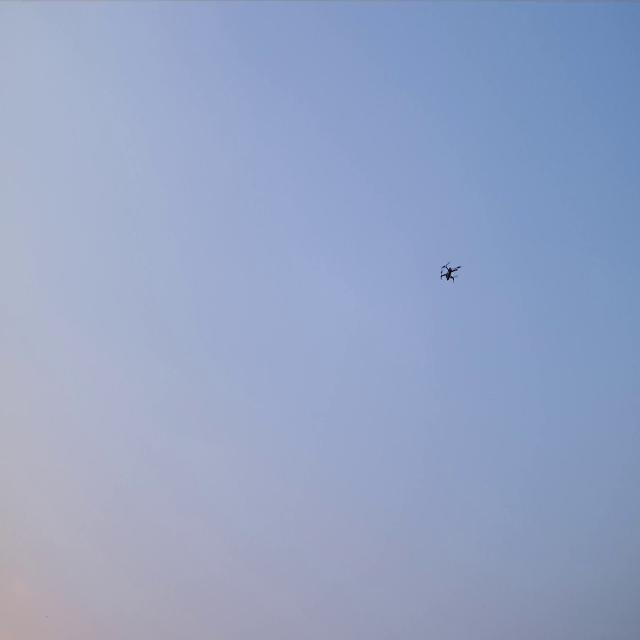UAV: (439, 260, 462, 284)
